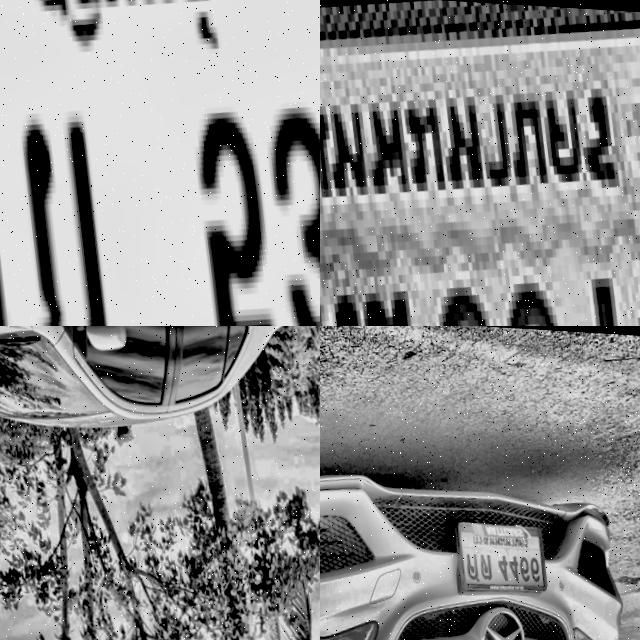license-plate: (0, 0, 320, 326), (320, 0, 640, 326), (448, 500, 552, 599)
